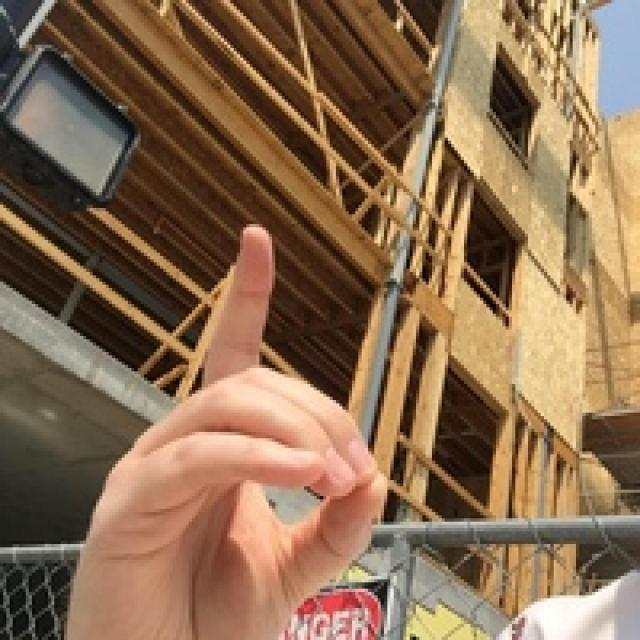D: (55, 203, 406, 640)
